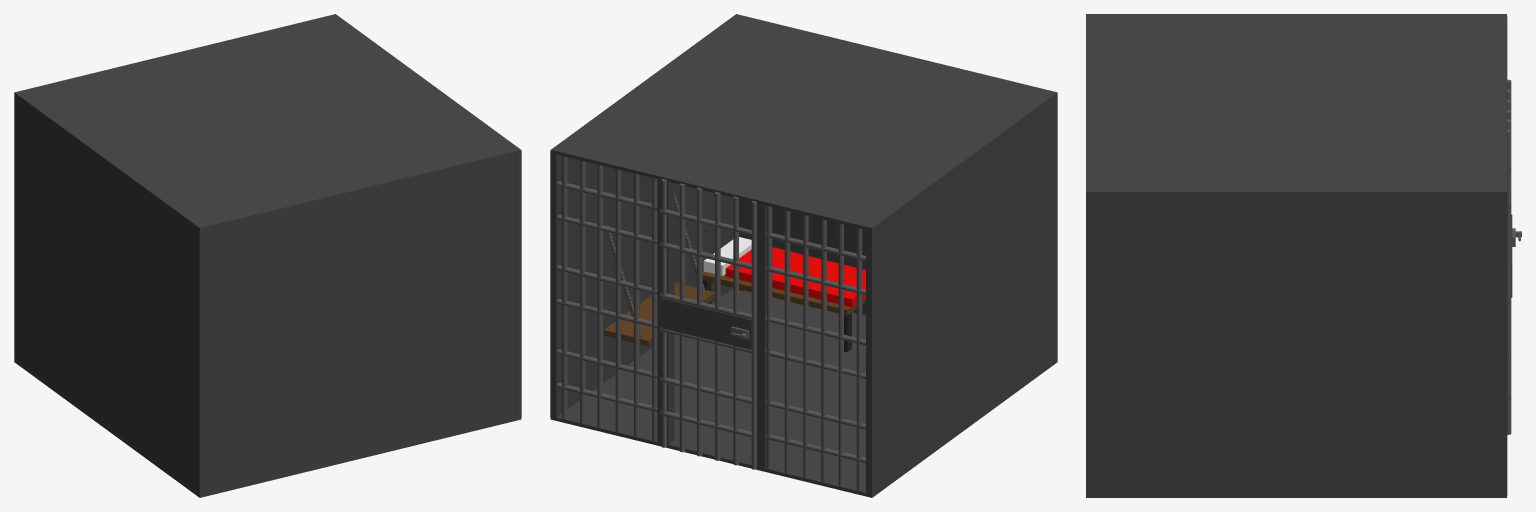
File: Jail-Kapali.fbx
The picture shows the model from 3 angles, left to right: view 1: azimuth 30°, elevation 25°; view 2: azimuth 150°, elevation 25°; view 3: azimuth 270°, elevation 25°; orthographic projection. The views are drawn at different scales.
Visible parts, largest first — view 1: Cube.217; view 2: Cube.217; view 3: Cube.217.
Boxes of the visible parts, bbox=[...] form: Cube.217: bbox=[14, 14, 521, 497]; Cube.217: bbox=[550, 14, 1057, 497]; Cube.217: bbox=[1086, 14, 1521, 497].
Size of the model in its own units: 2003 by 1604 by 2071.
